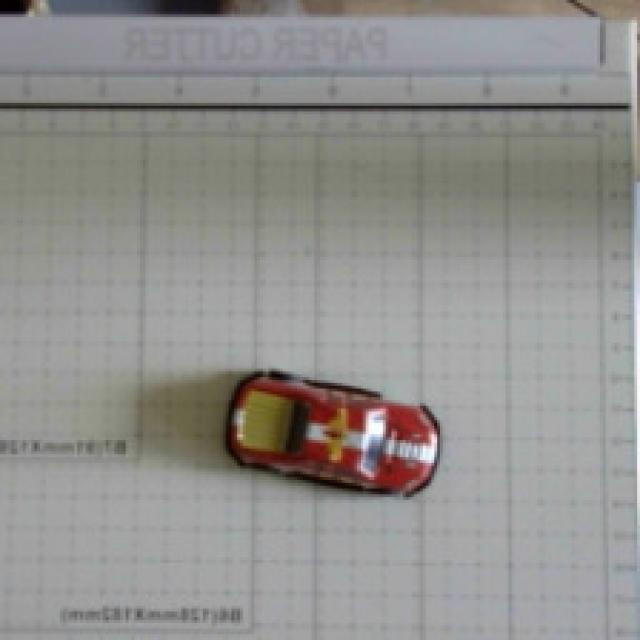Red Car: (212, 328, 482, 550)
